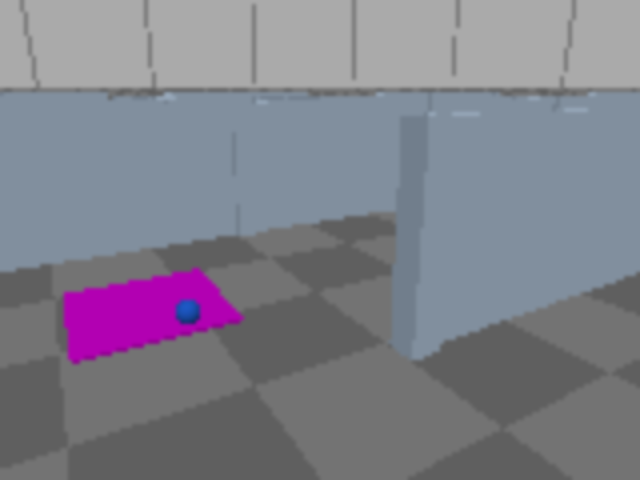goal_zone: (62, 269, 244, 364)
puck: (169, 293, 208, 332)
